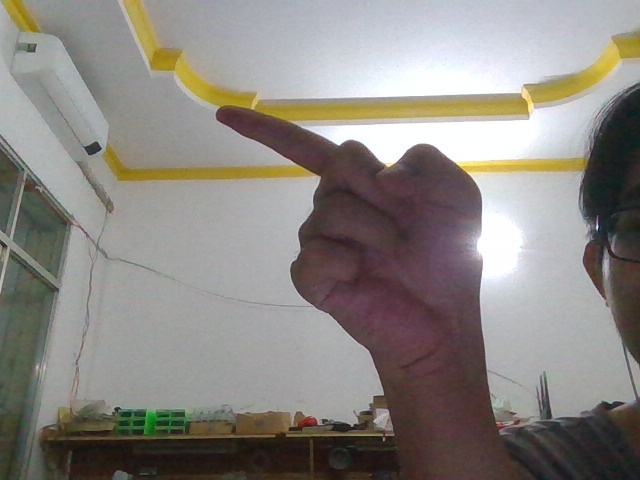turn_right: (204, 94, 509, 385)
